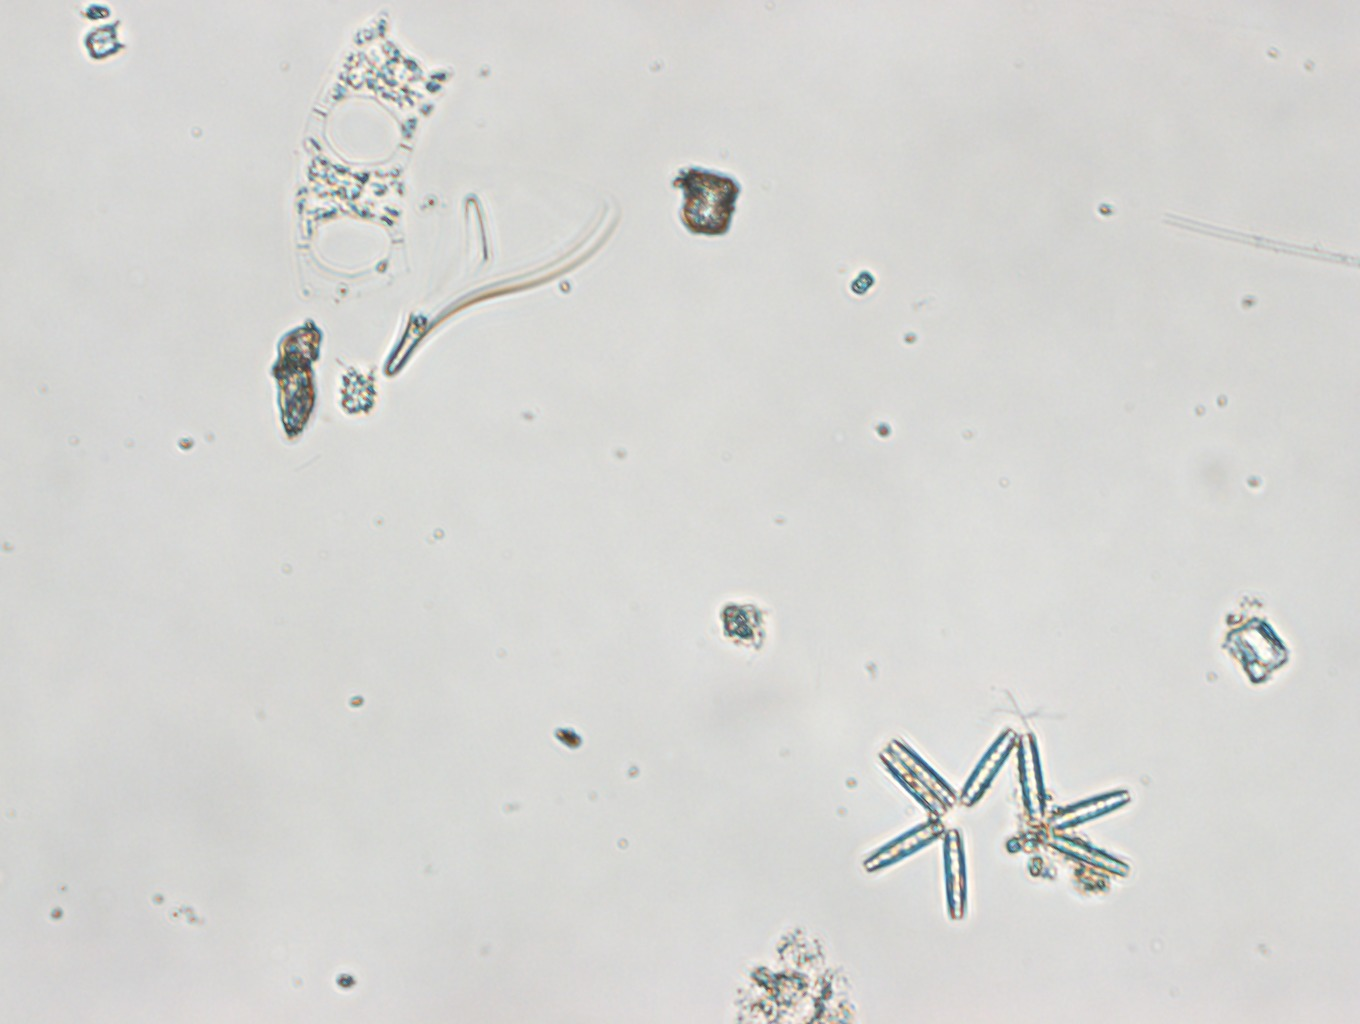eucampia: (281, 23, 455, 297)
thalassionema nitzschioides: (865, 717, 1142, 927)
